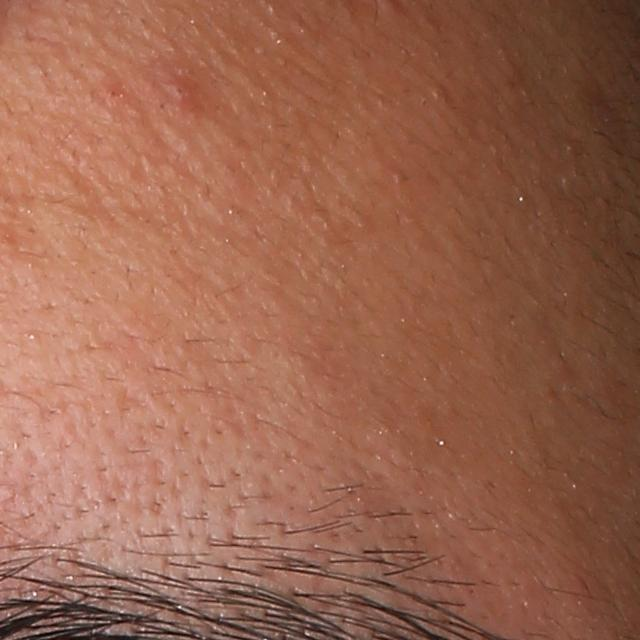atrophic_scar: (46, 175, 122, 228), (112, 384, 156, 430)
papule: (133, 57, 205, 115)
